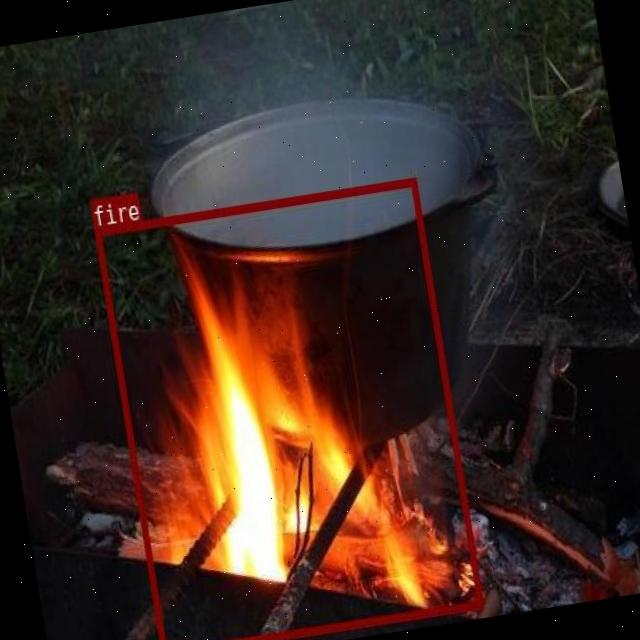fire: (93, 175, 482, 640)
